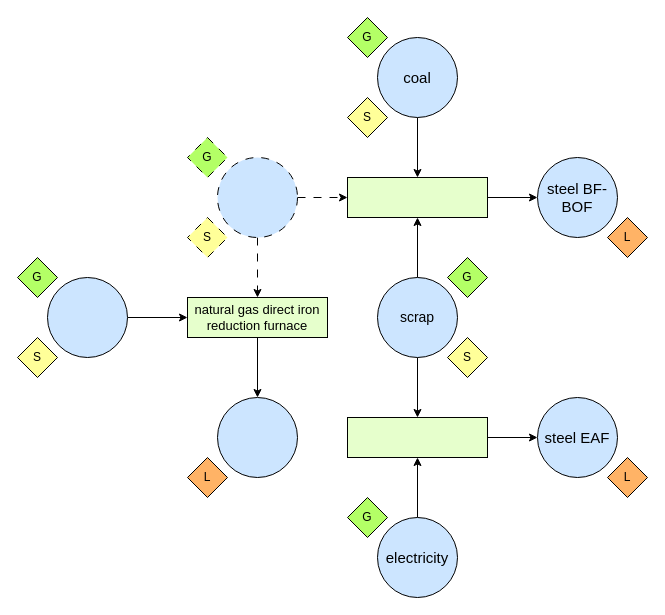
Some shapes in this 665 by 615 pixel diagram are drawn without their labels. Here are the shapes that lost their labels. From the top down, the box of each, then its label:
(216, 156, 298, 238): iron ore
(346, 176, 488, 218): blast furnace-basic oxygen furnace
(46, 276, 128, 358): gas
(216, 396, 298, 478): DRI
(346, 416, 488, 458): electric arc furnace
